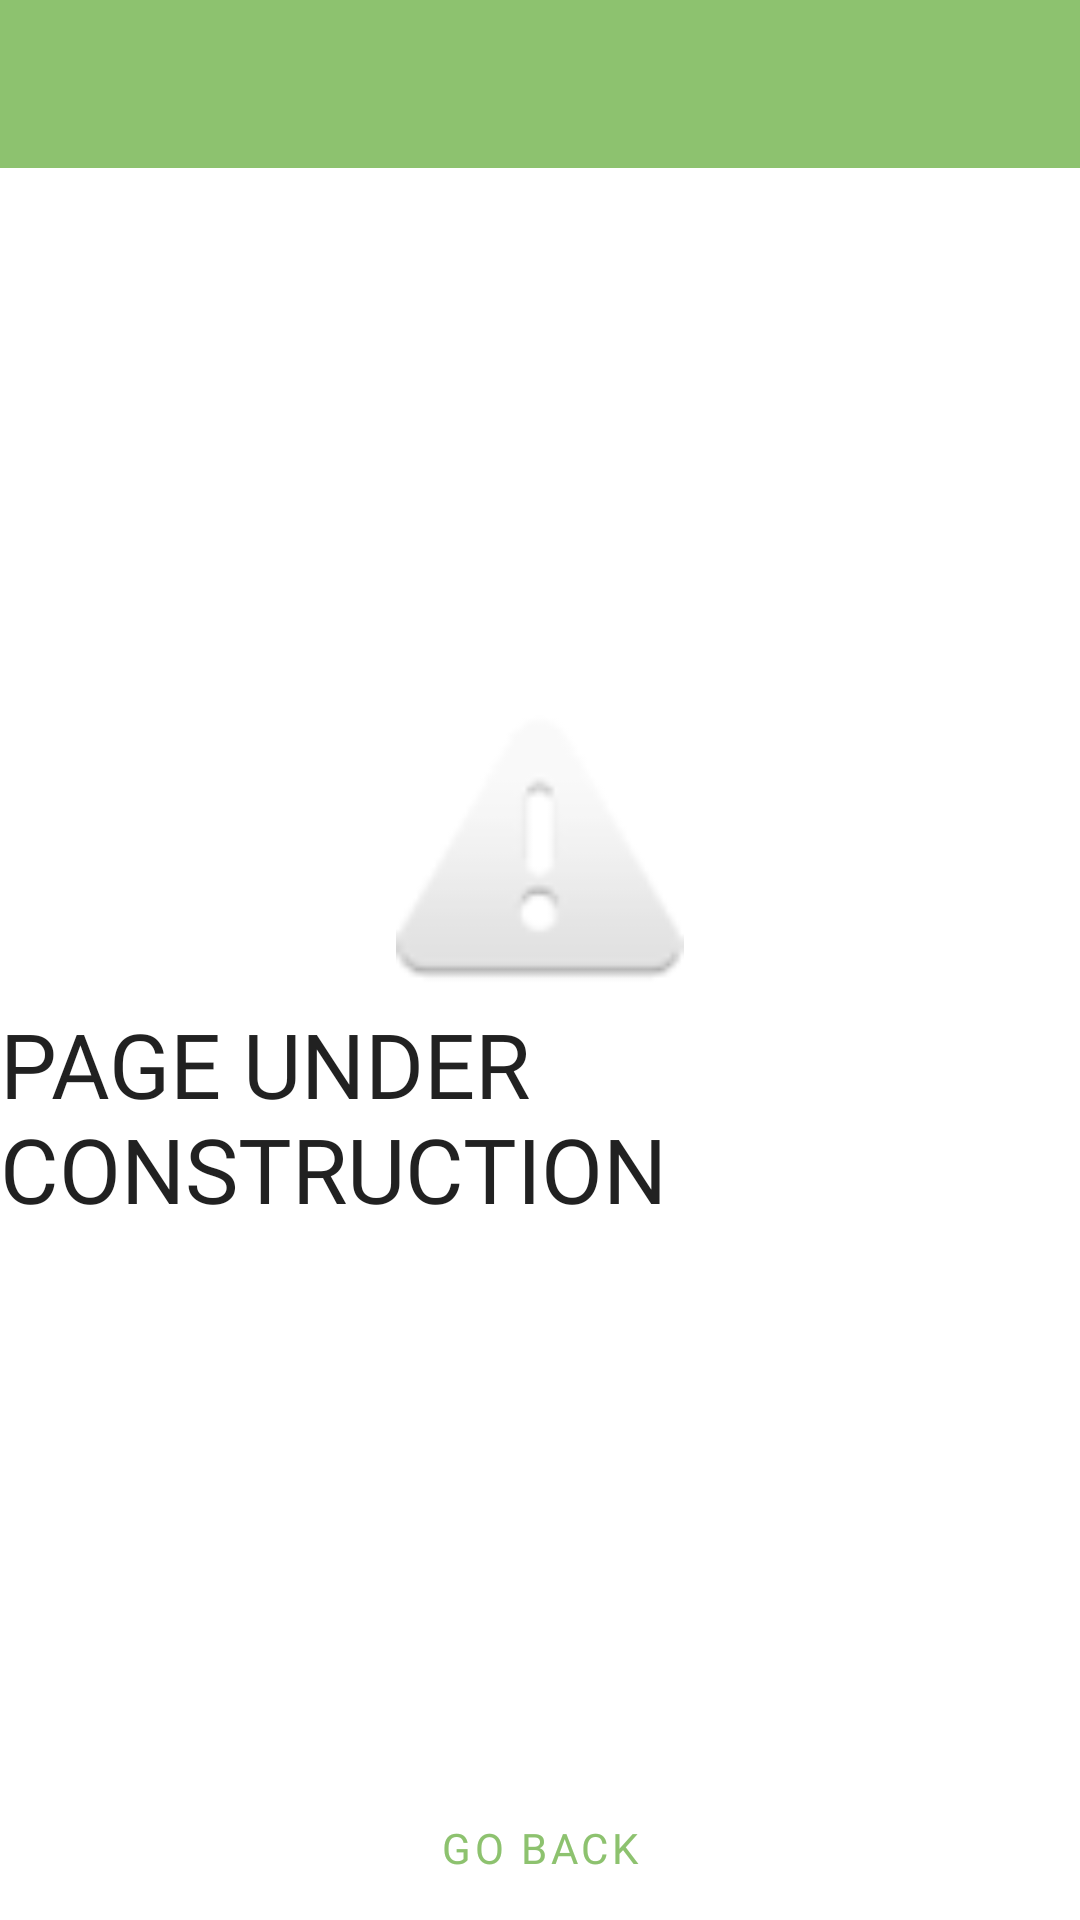

Where icons sit on this 1080px×1920px app screen, as region(x1, y1, x2, y2):
alert: region(396, 782, 684, 976)
